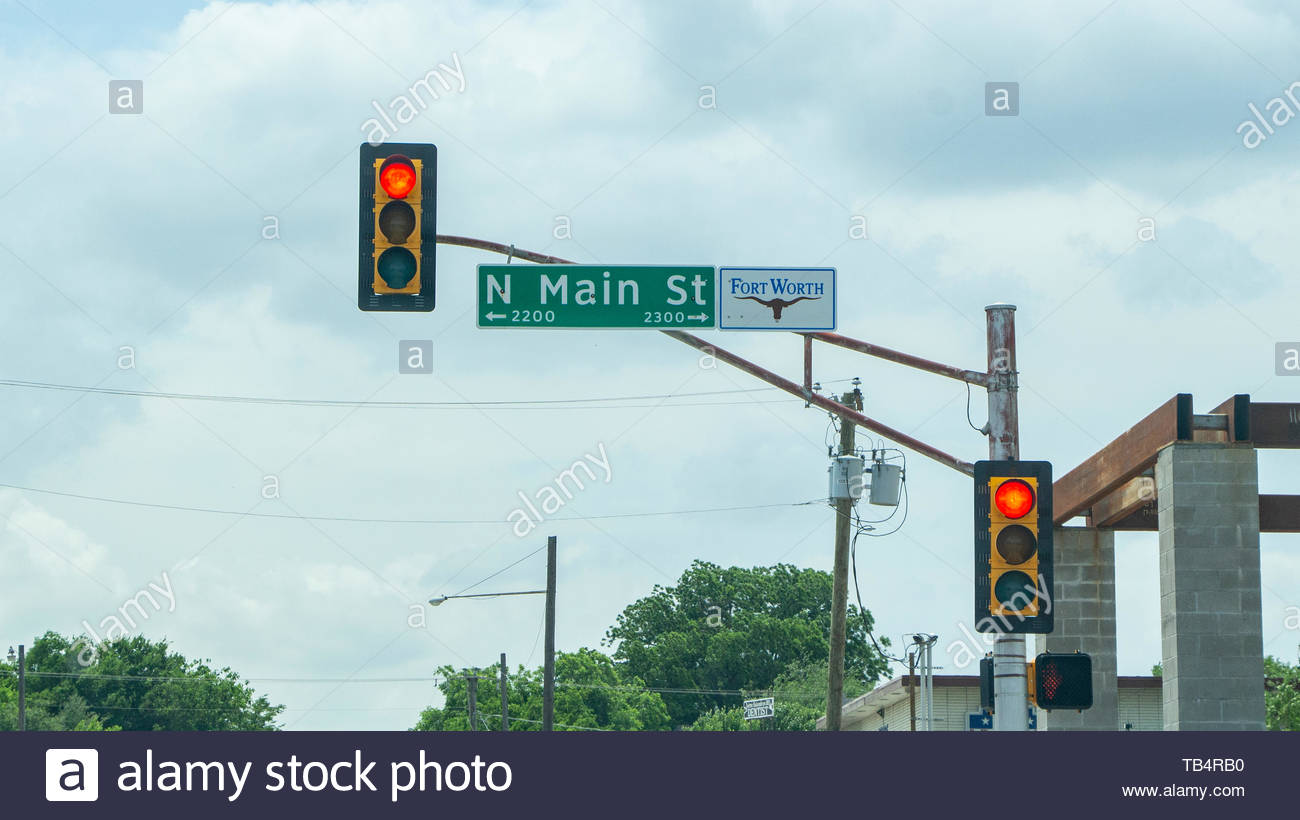trafficLight: (345, 132, 447, 323)
